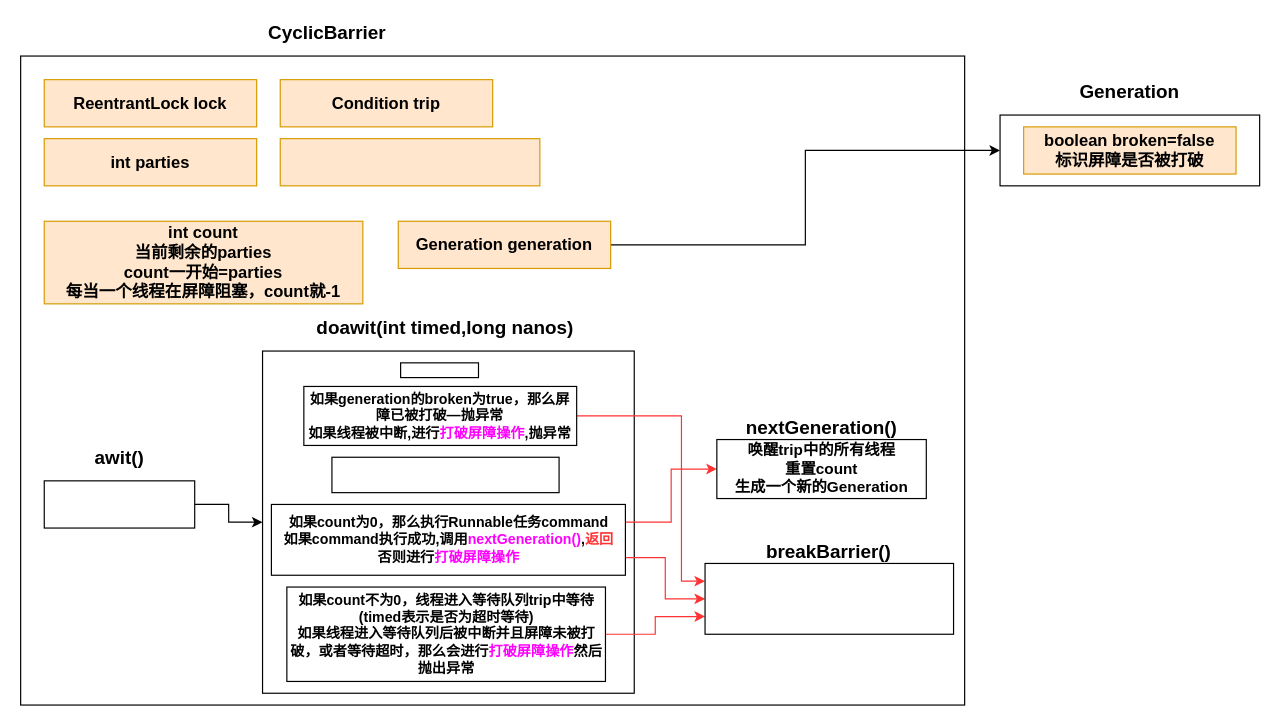
Some shapes in this 1280 by 726 pixel diagram are drawn without their labels. The box of each missing label's shape, as (x1, y1, x2, y2) in pixels:
--count(将count-1): (331, 456, 559, 493)
Runnable barrierCommand: (279, 137, 540, 186)
加锁: (399, 362, 478, 378)
唤醒trip中的所有线程 重置count 将generation的broken设为true，表示屏障被打破了: (704, 562, 954, 634)
调用dowait(false,0L): (43, 480, 195, 528)
